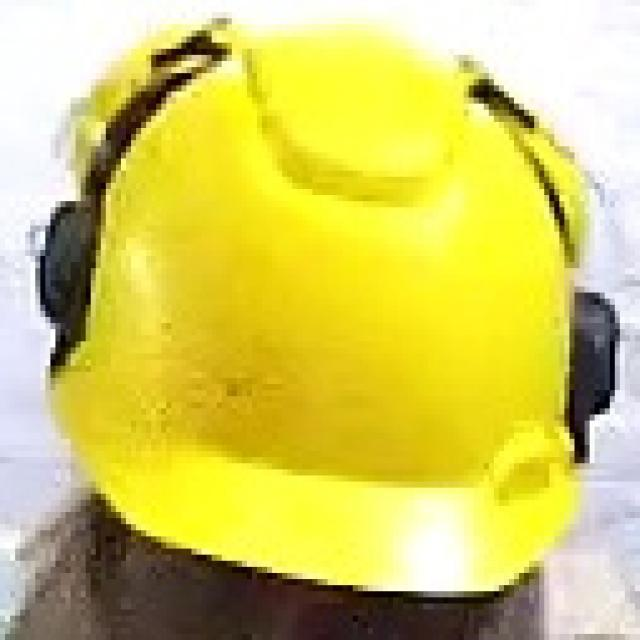yellow helmet: (29, 16, 631, 599)
